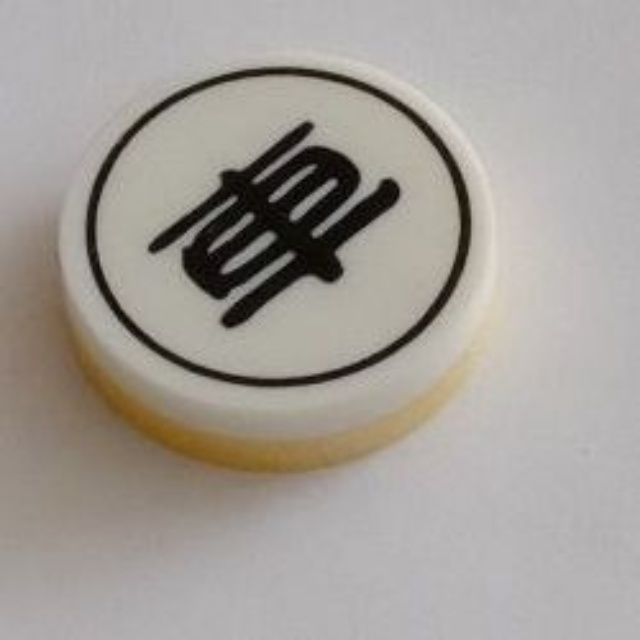black_xe: (49, 50, 513, 475)
